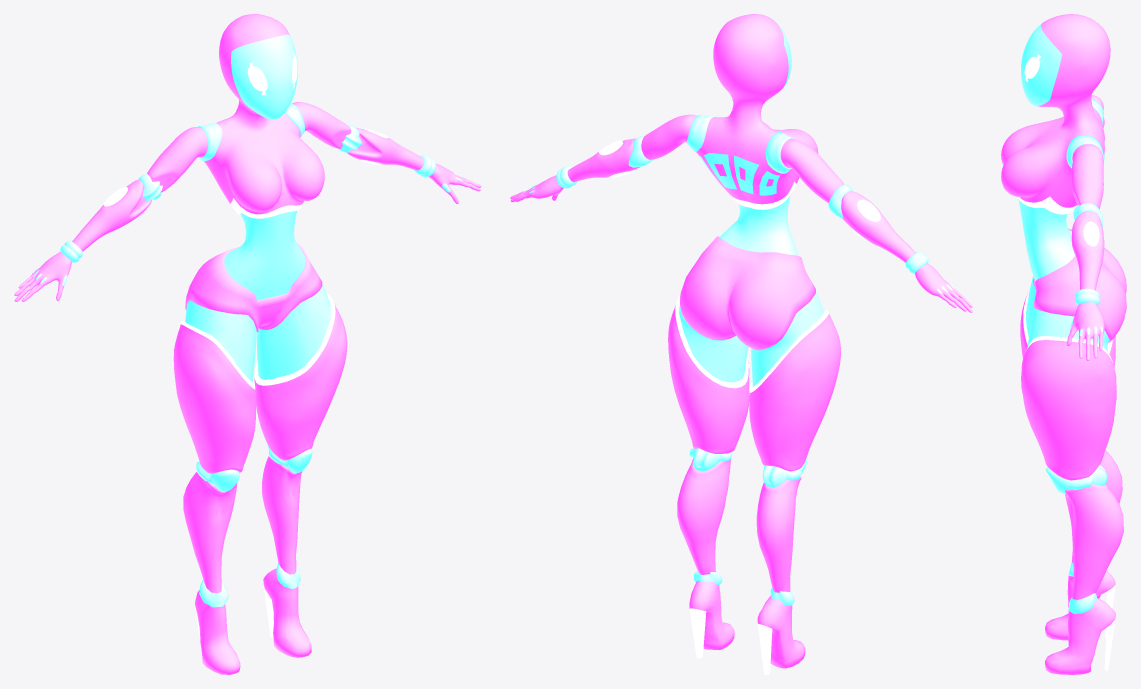
Rendered from sara_model.glb.
The picture shows the model from 3 angles, left to right: view 1: azimuth 30°, elevation 25°; view 2: azimuth 150°, elevation 25°; view 3: azimuth 270°, elevation 25°; orthographic projection.
Parts seen in each view (by area): view 1: Object_84; view 2: Object_84; view 3: Object_84.
Boxes of the visible parts, <box> form: Object_84: <box>14,14,481,674</box>; Object_84: <box>510,14,972,674</box>; Object_84: <box>1001,14,1126,674</box>.
Size of the model in its own units: 1.41 by 1.84 by 0.3302.
